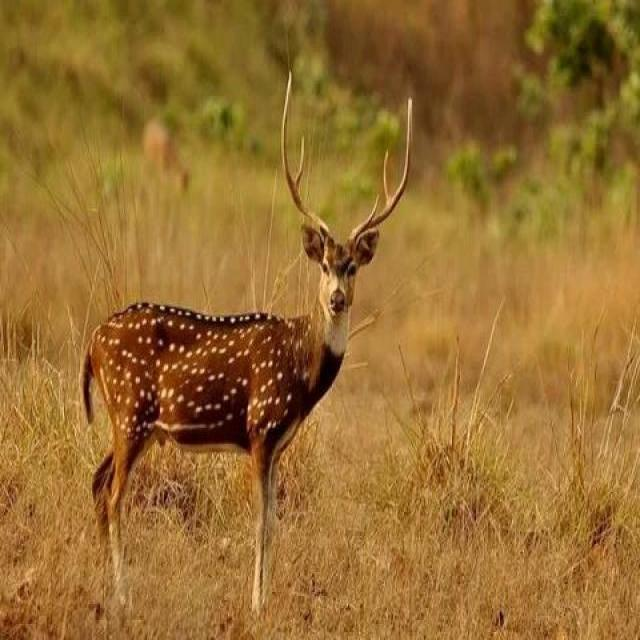deer: (49, 127, 380, 554)
